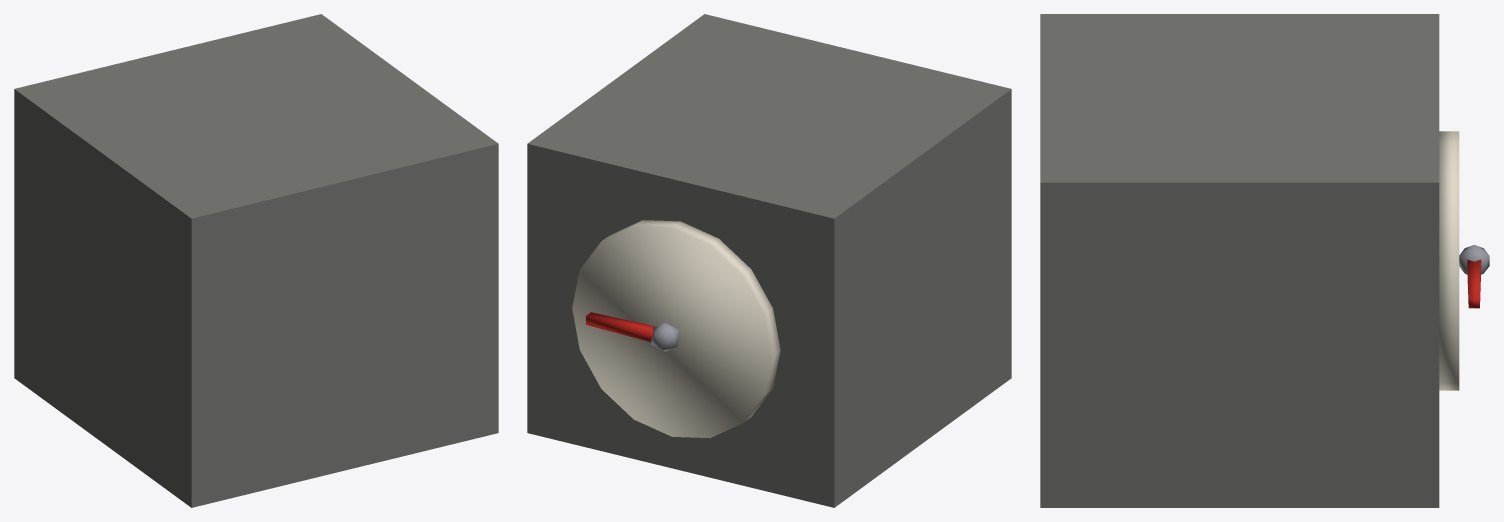
The model's file is timer_3_second_v0.glb.
3 renders of one model, left to right at view 1: azimuth 30°, elevation 25°; view 2: azimuth 150°, elevation 25°; view 3: azimuth 270°, elevation 25°, orthographic. The views are drawn at different scales.
Visible parts, largest first — view 1: timer_3_second_v0; view 2: timer_3_second_v0; view 3: timer_3_second_v0.
Boxes of the visible parts, <box> form: timer_3_second_v0: <box>14,14,498,507</box>; timer_3_second_v0: <box>527,14,1011,507</box>; timer_3_second_v0: <box>1040,14,1489,507</box>.
Bounding box in the file's own units: 0.4 × 0.36 × 0.4503.
